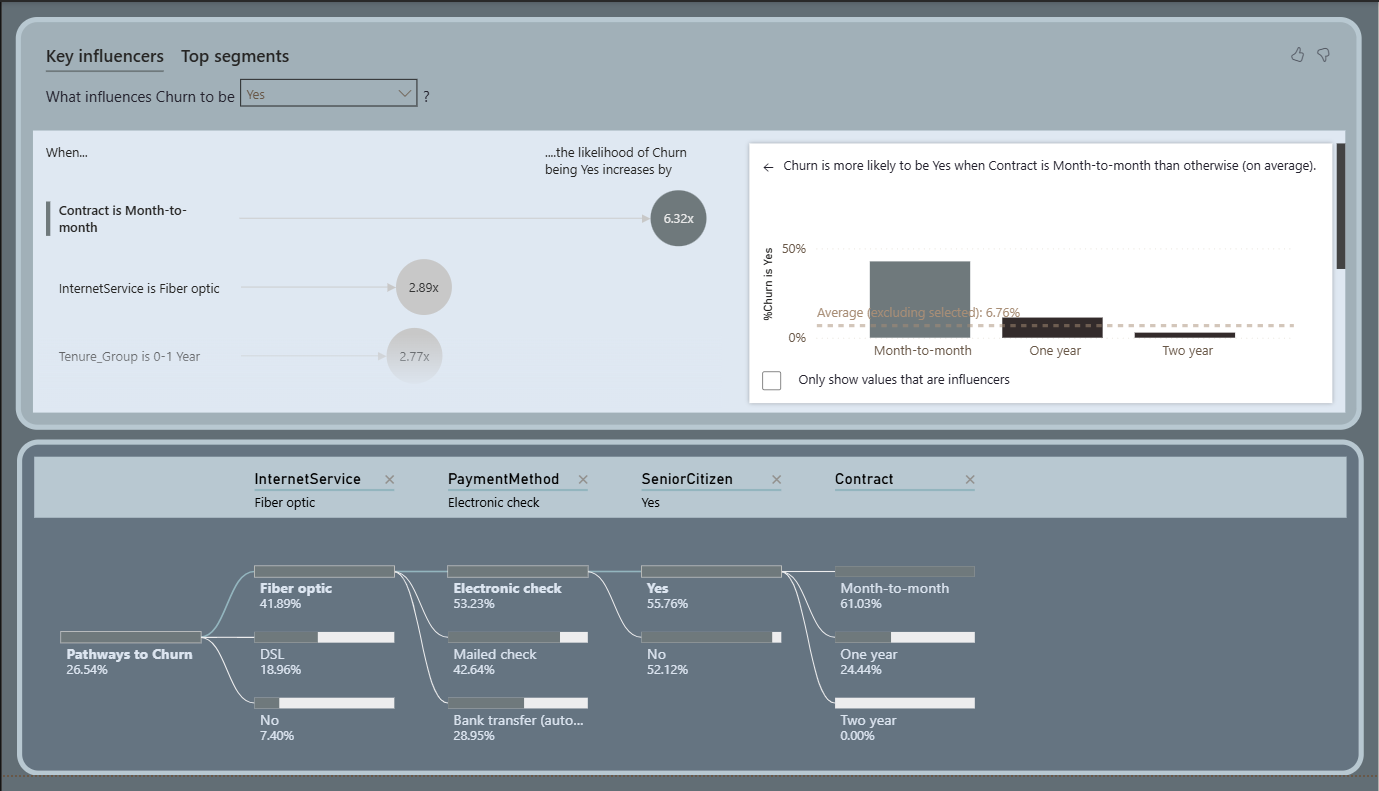

Layout of this report page (visuals, bound fields, positions):
{"tool":"powerbi","page":{"name":"The \"Churn Driver\" Analysis","canvas":[1280,720],"ordinal":1},"visuals":[{"type":"keyDriversVisual","fields":{"Target":["telecom telco_analytics.Churn"],"ExplainBy":["telecom telco_analytics.Contract","telecom telco_analytics.InternetService","telecom telco_analytics.TechSupport","telecom telco_analytics.Tenure_Group","telecom telco_analytics.PaymentMethod","Sum(telecom telco_analytics.MonthlyCharges)"]},"box":[12.8,14,1252.3,383.7],"z":0},{"type":"decompositionTreeVisual","fields":{"Analyze":["Avg(telecom telco_analytics.Churn_Value)"],"ExplainBy":["telecom telco_analytics.InternetService","telecom telco_analytics.PaymentMethod","telecom telco_analytics.SeniorCitizen","telecom telco_analytics.Contract"]},"box":[13.7,407.5,1252.8,312.9],"z":1000}]}

Visuals, with their boxes in screenshot pixels (x1, y1, x2, y2), scaled from the page's 1280x720 canvas onto the 1379x791 screenshot:
keyDriversVisual - telecom telco_analytics.Churn x telecom telco_analytics.Contract: {"left": 14, "top": 15, "right": 1363, "bottom": 437}
decompositionTreeVisual - Avg(telecom telco_analytics.Churn_Value) x telecom telco_analytics.InternetService: {"left": 15, "top": 448, "right": 1364, "bottom": 790}
